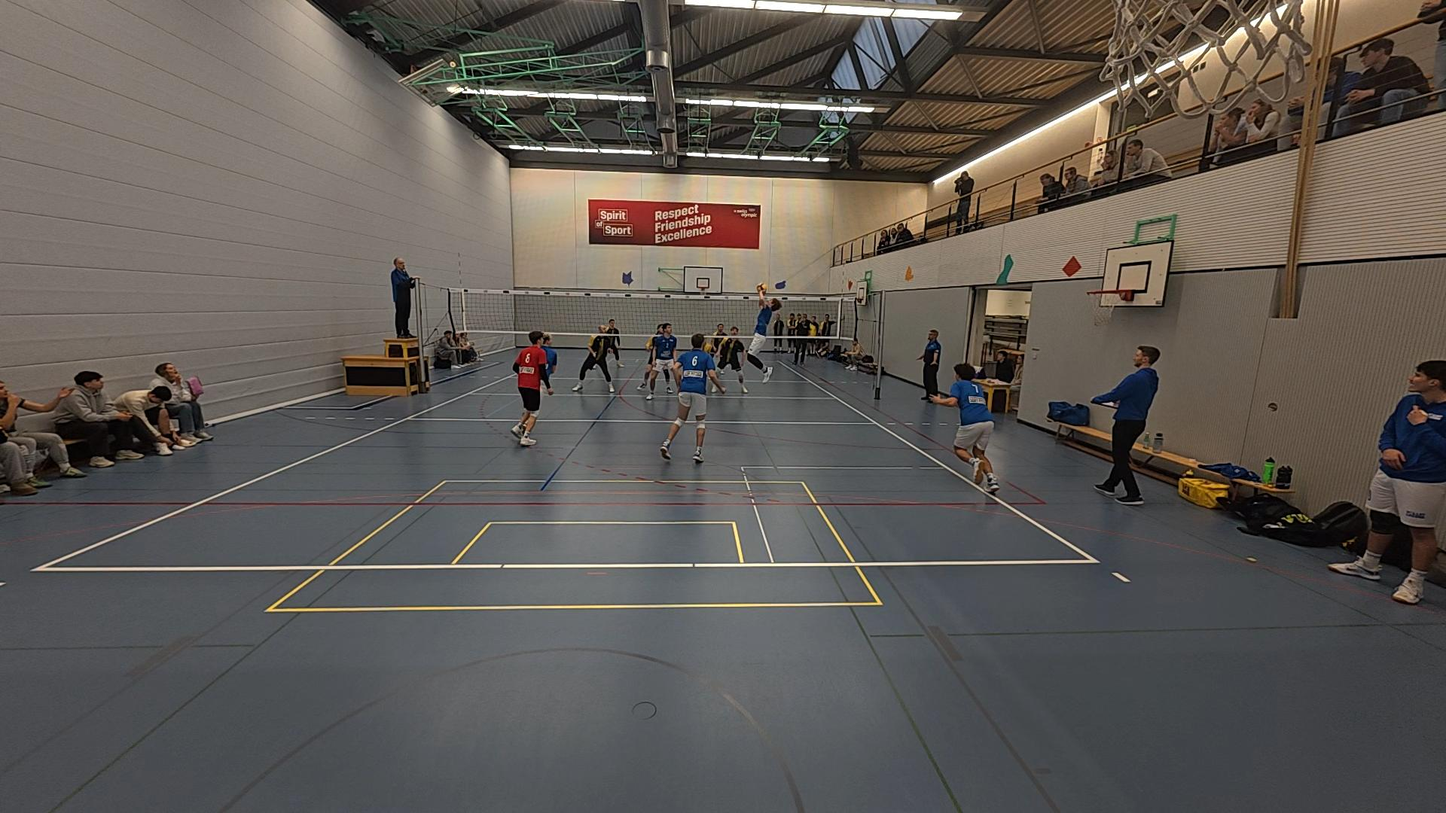alzata: (749, 280, 782, 377)
